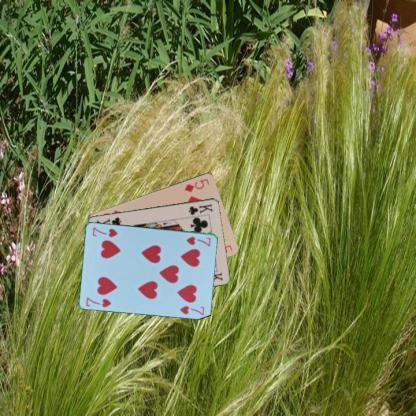5d: (182, 176, 210, 193)
7h: (184, 233, 212, 248), (84, 294, 112, 309)
Kc: (186, 201, 214, 216)
